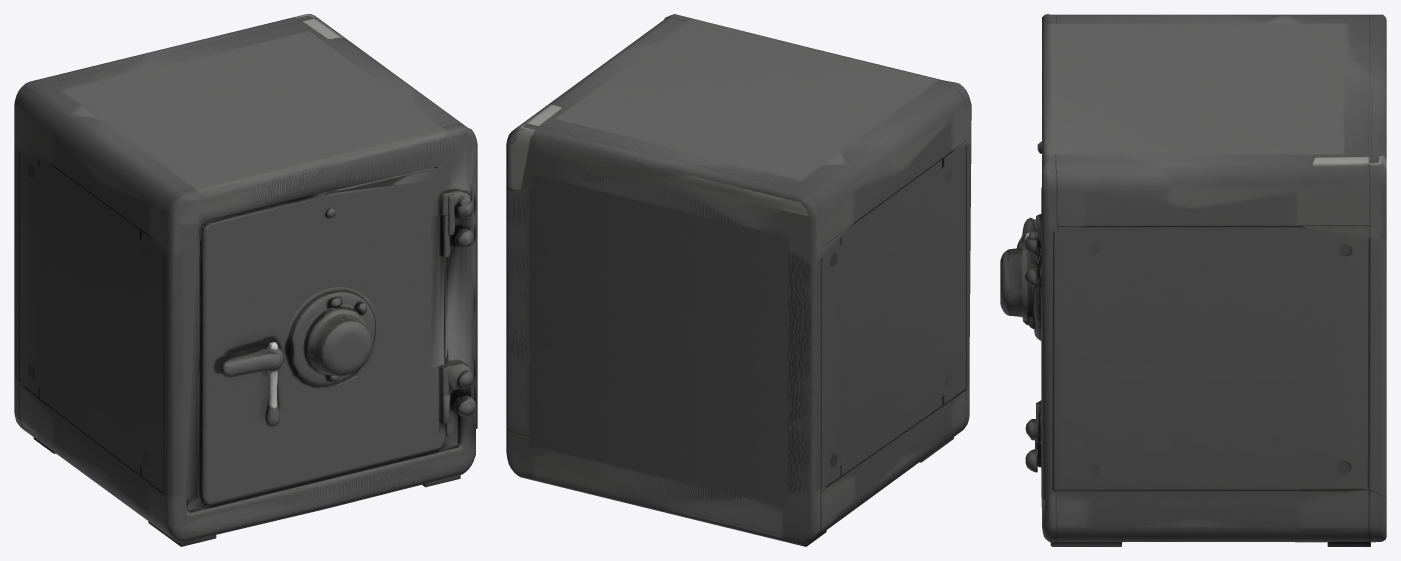
Rendered from Meshy_AI_Rusty_safe_old_worn_0131123424_texture.fbx.
The picture shows the model from 3 angles, left to right: view 1: azimuth 30°, elevation 25°; view 2: azimuth 150°, elevation 25°; view 3: azimuth 270°, elevation 25°; orthographic projection. The views are drawn at different scales.
Parts seen in each view (by area): view 1: Mesh_0; view 2: Mesh_0; view 3: Mesh_0.
Part boxes in pixels (box(x1,y1,x2,y2)): Mesh_0: box(14, 14, 477, 546); Mesh_0: box(506, 14, 971, 546); Mesh_0: box(1000, 14, 1386, 546).
Bounding box in the file's own units: 183 × 200 × 182.
1 material, 1 textured.
